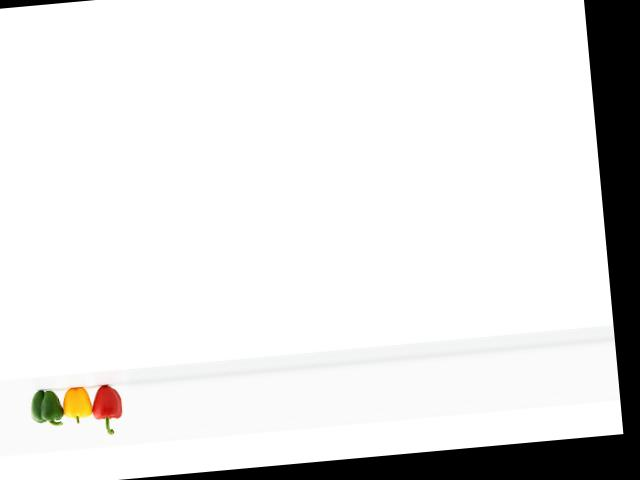bell_pepper: (86, 378, 133, 439)
